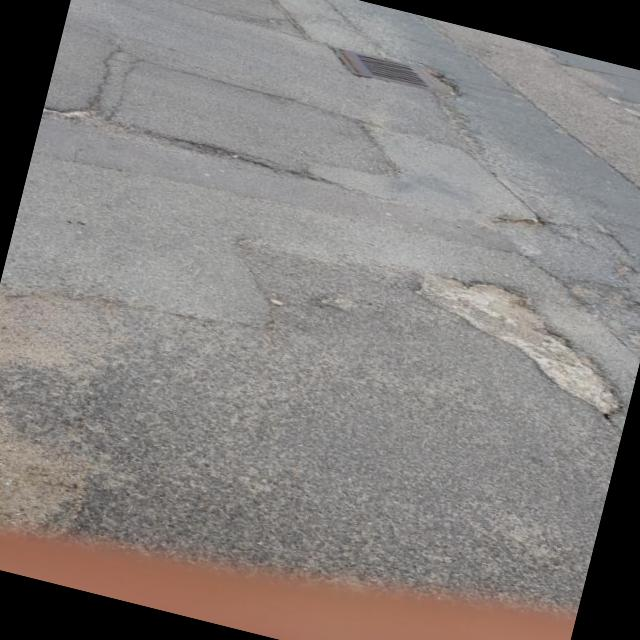pothole: (384, 257, 640, 424)
